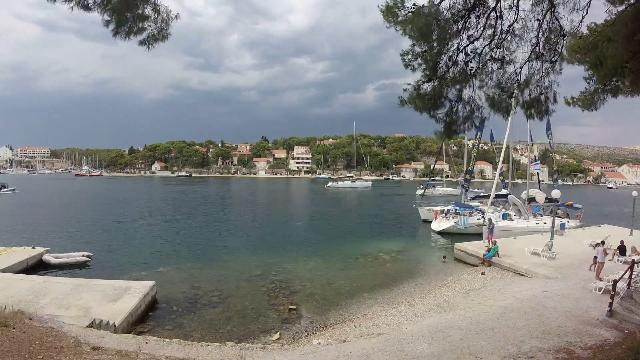Sailboat: (412, 178, 466, 200), (322, 171, 376, 191)
speedboat: (1, 174, 22, 195), (172, 168, 196, 182)
